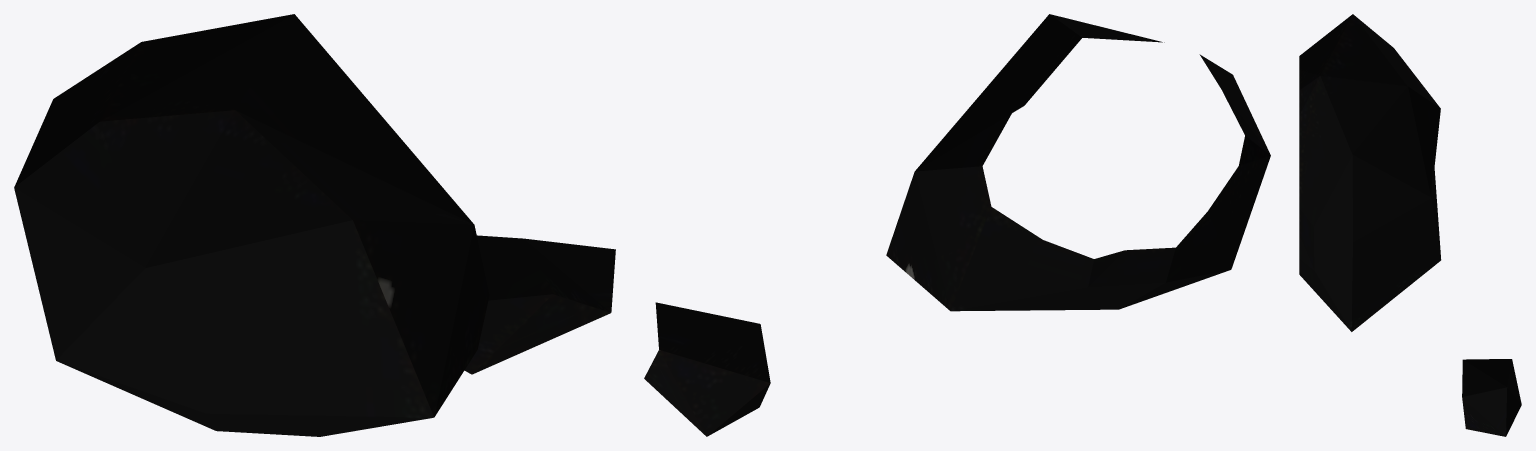
3 renders of one model, left to right at view 1: azimuth 30°, elevation 25°; view 2: azimuth 150°, elevation 25°; view 3: azimuth 270°, elevation 25°, orthographic. The views are drawn at different scales.
Size of the model in its own units: 0.477 by 0.3584 by 0.2501.
1 material, 1 textured.
